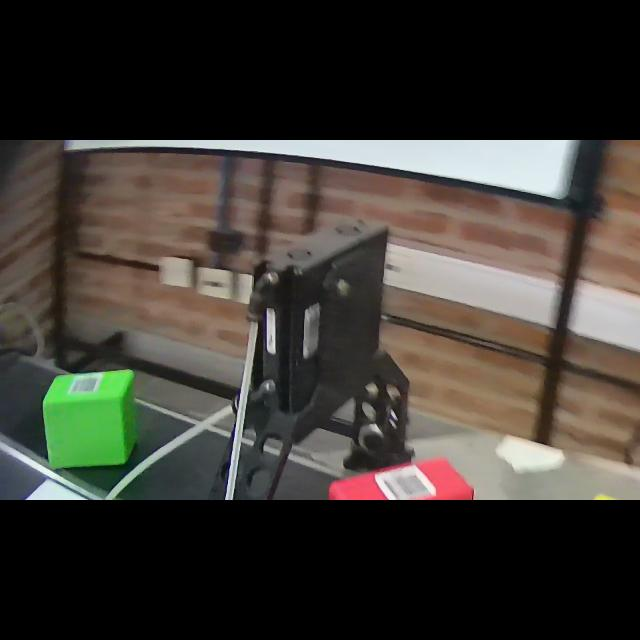greenBox: (40, 366, 142, 472)
redBox: (317, 448, 477, 499)
yellowBox: (558, 490, 640, 500)
